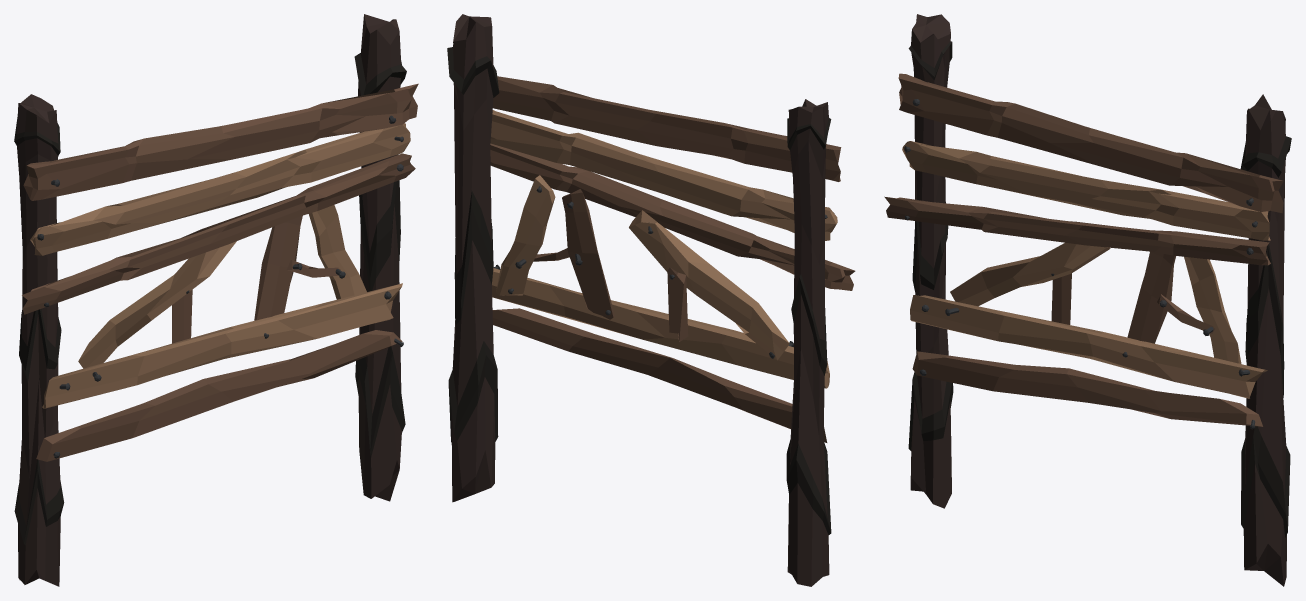
File: Fence.fbx
3 views of the same model, side by side, from view 1: azimuth 30°, elevation 25°; view 2: azimuth 150°, elevation 25°; view 3: azimuth 330°, elevation 25° (orthographic).
Visible parts, largest first — view 1: Fence Whole; view 2: Fence Whole; view 3: Fence Whole.
Part boxes in pixels (left/top/right/bottom): Fence Whole: left=14, top=14, right=418, bottom=586; Fence Whole: left=447, top=14, right=855, bottom=586; Fence Whole: left=884, top=14, right=1291, bottom=586.
Bounding box in the file's own units: 442 × 66.63 × 518.
